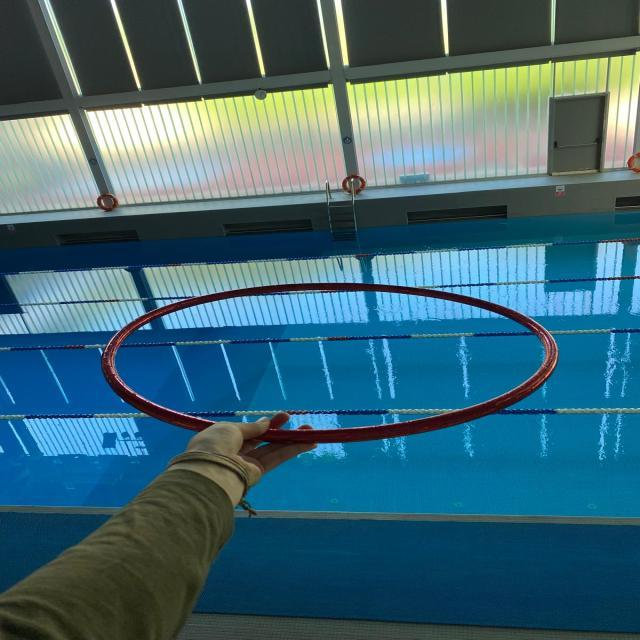Circle: (98, 278, 563, 444)
